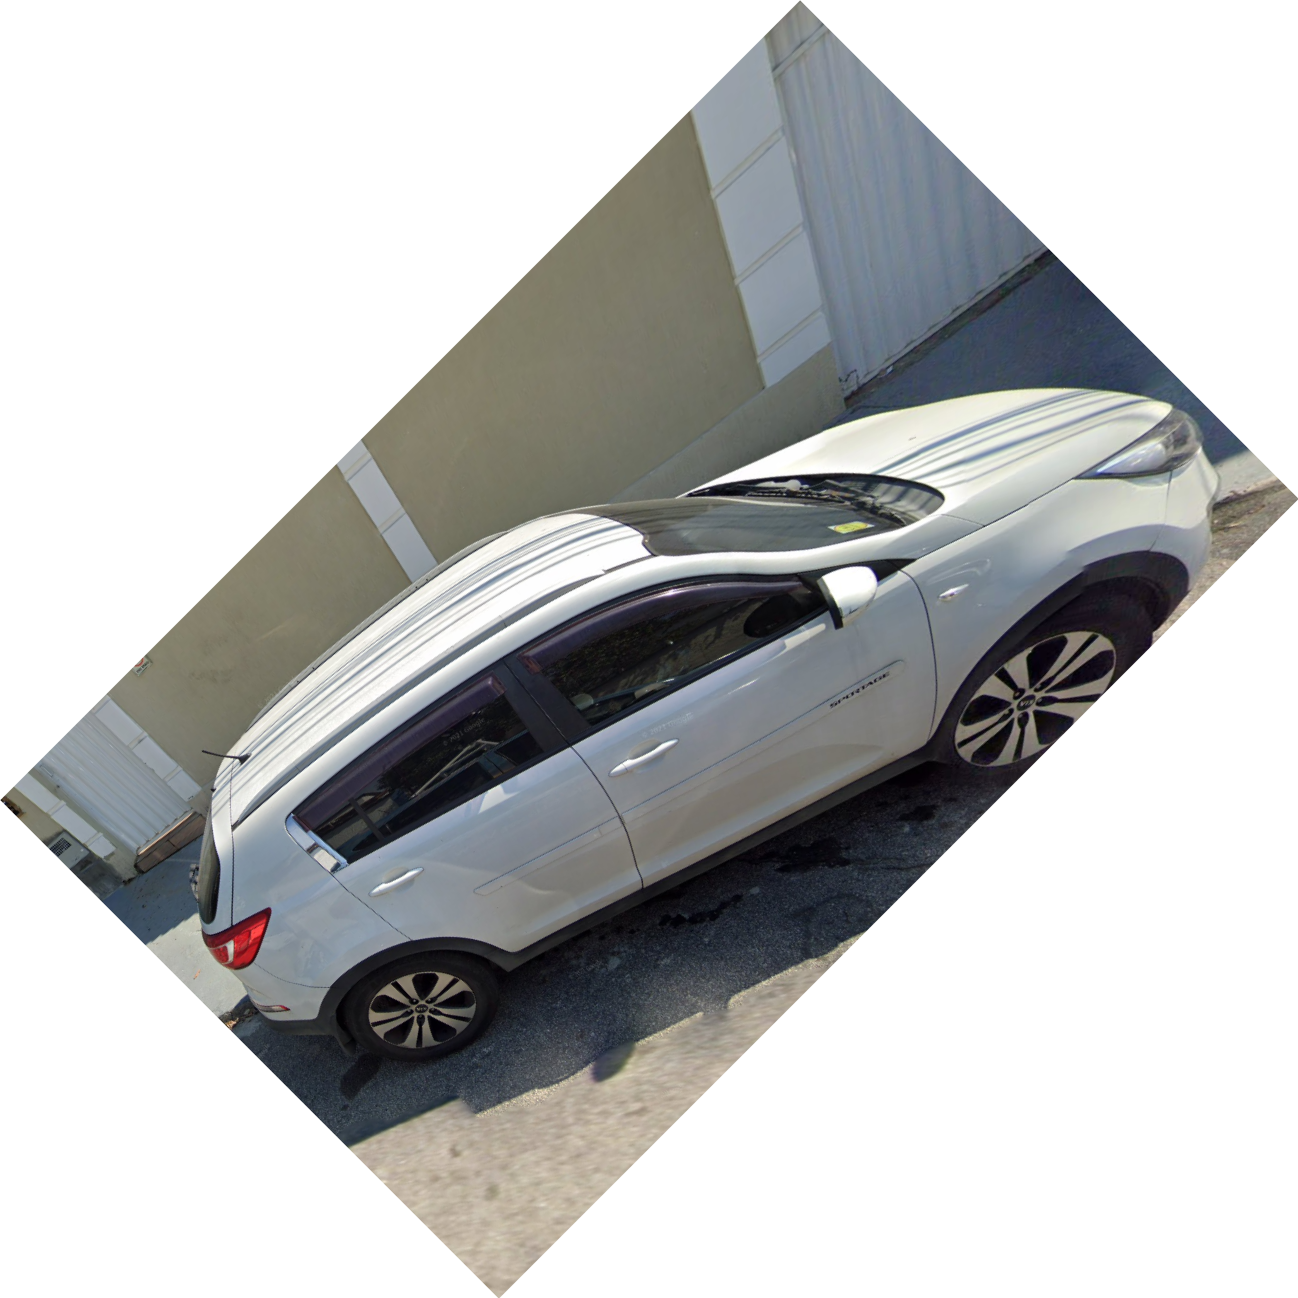car: (187, 386, 1254, 1064)
